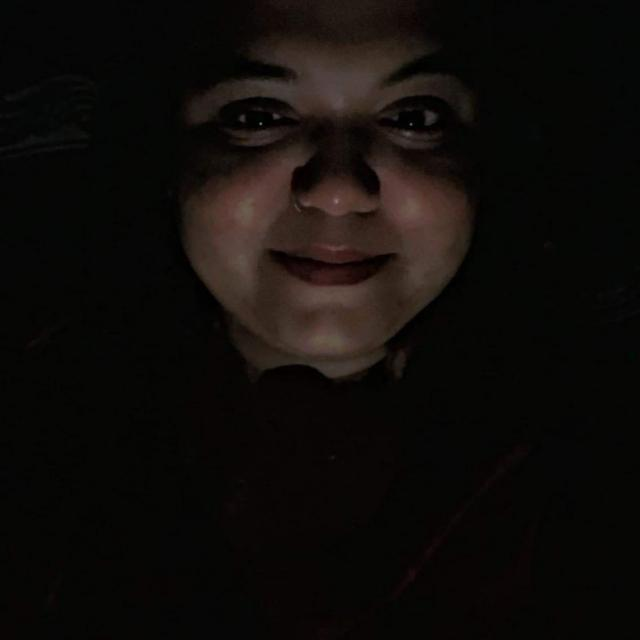Happy: (95, 27, 532, 473)
